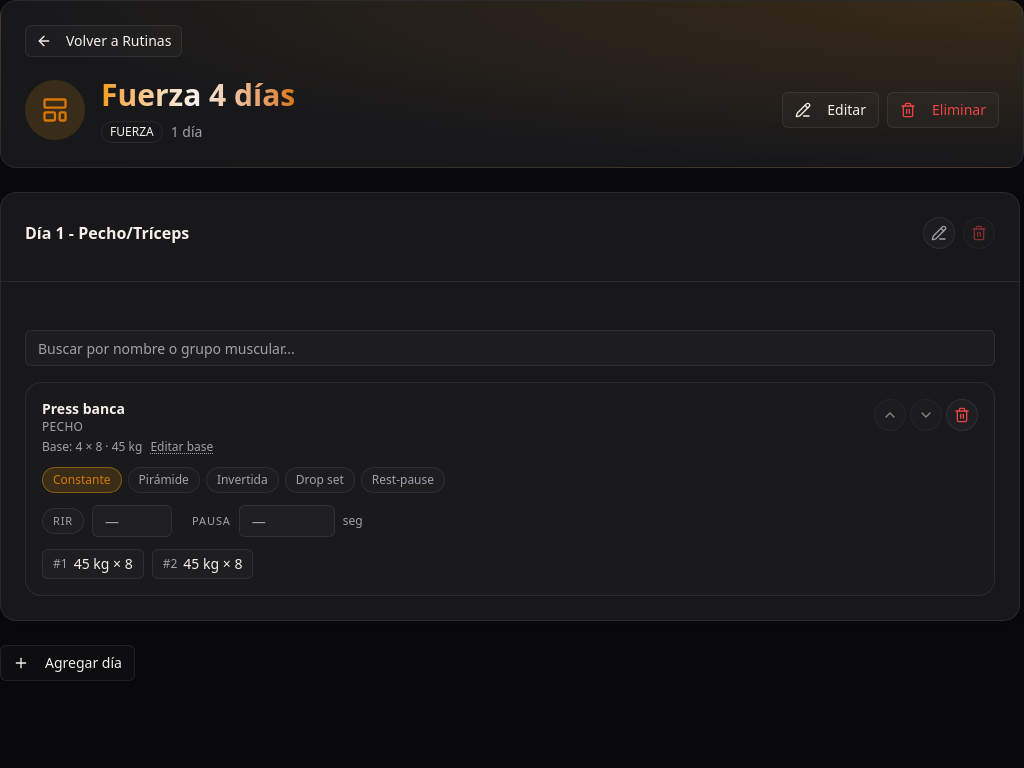
Scenario: detalle de plantilla de rutina — borrador y guardado › avisa que hay cambios sin guardar al intentar volver a Rutinas
Expected: the text "Día 1 - Pecho/Tríceps" is shown, [25,225,189,241]
Click the button "Agregar día": point(67, 663) [0,645,135,681]
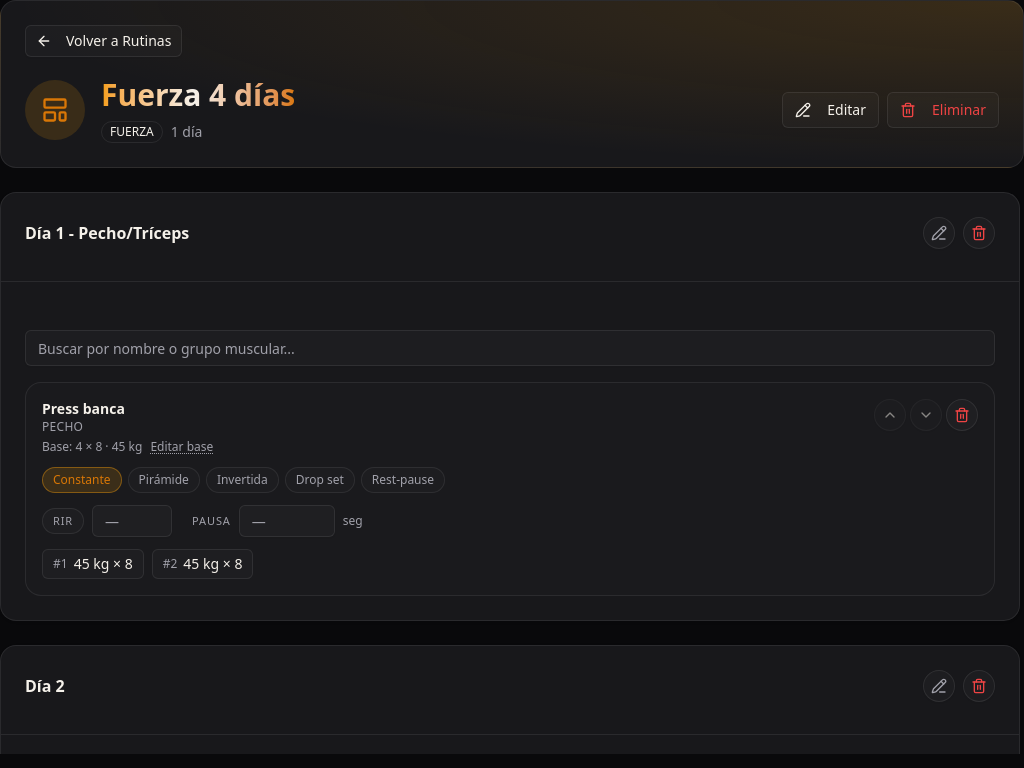
Click the button "Volver a Rutinas": point(104, 41) [25,25,182,57]
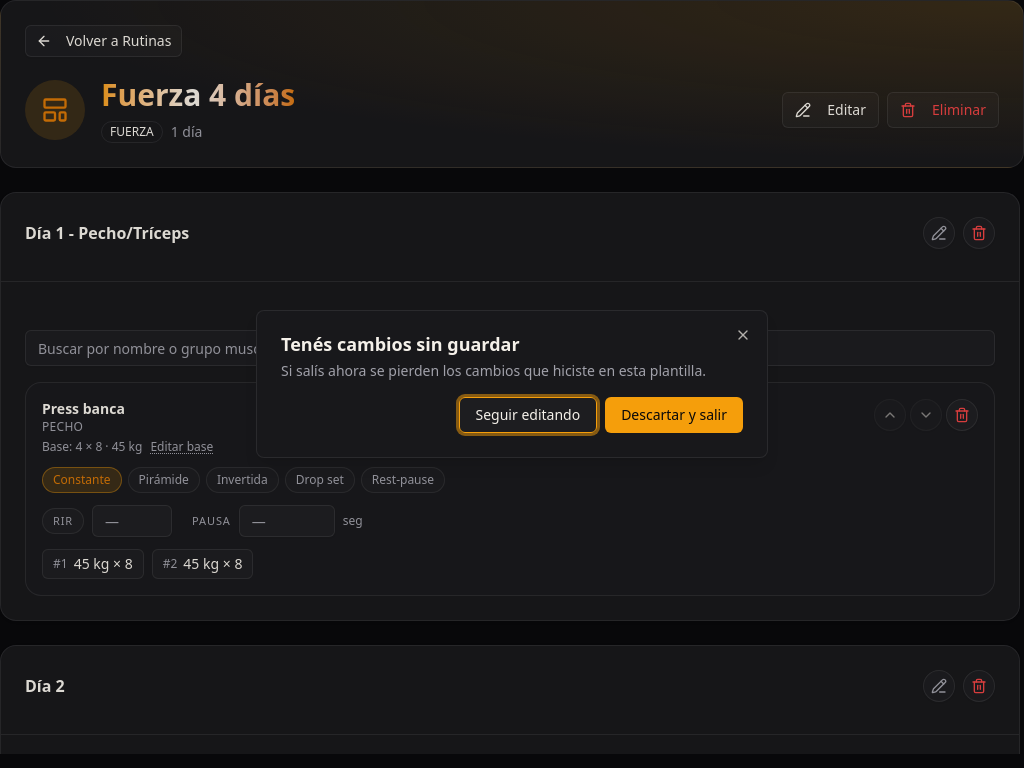
Result: the heading "Tenés cambios sin guardar" is shown at [281,332,520,356]
